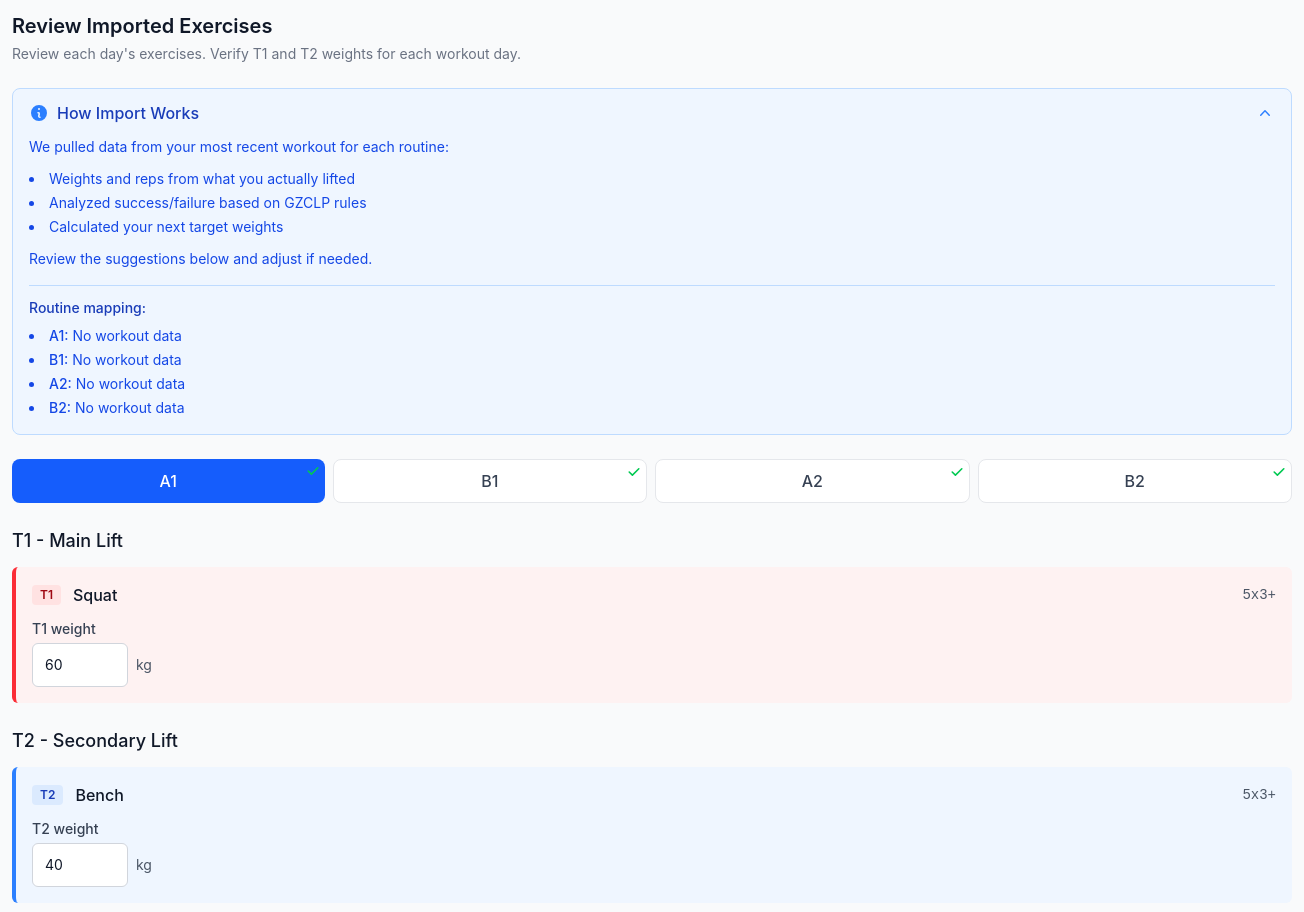
Scenario: ImportReviewStep › tabbed interface › tab navigation switches displayed day content
expect the text "Squat" is shown: met, box x1=73 y1=583 x2=117 y2=607
# Click B1 tab
Click the tab named "day b1".
click(490, 481)  # box x1=332 y1=459 x2=647 y2=503
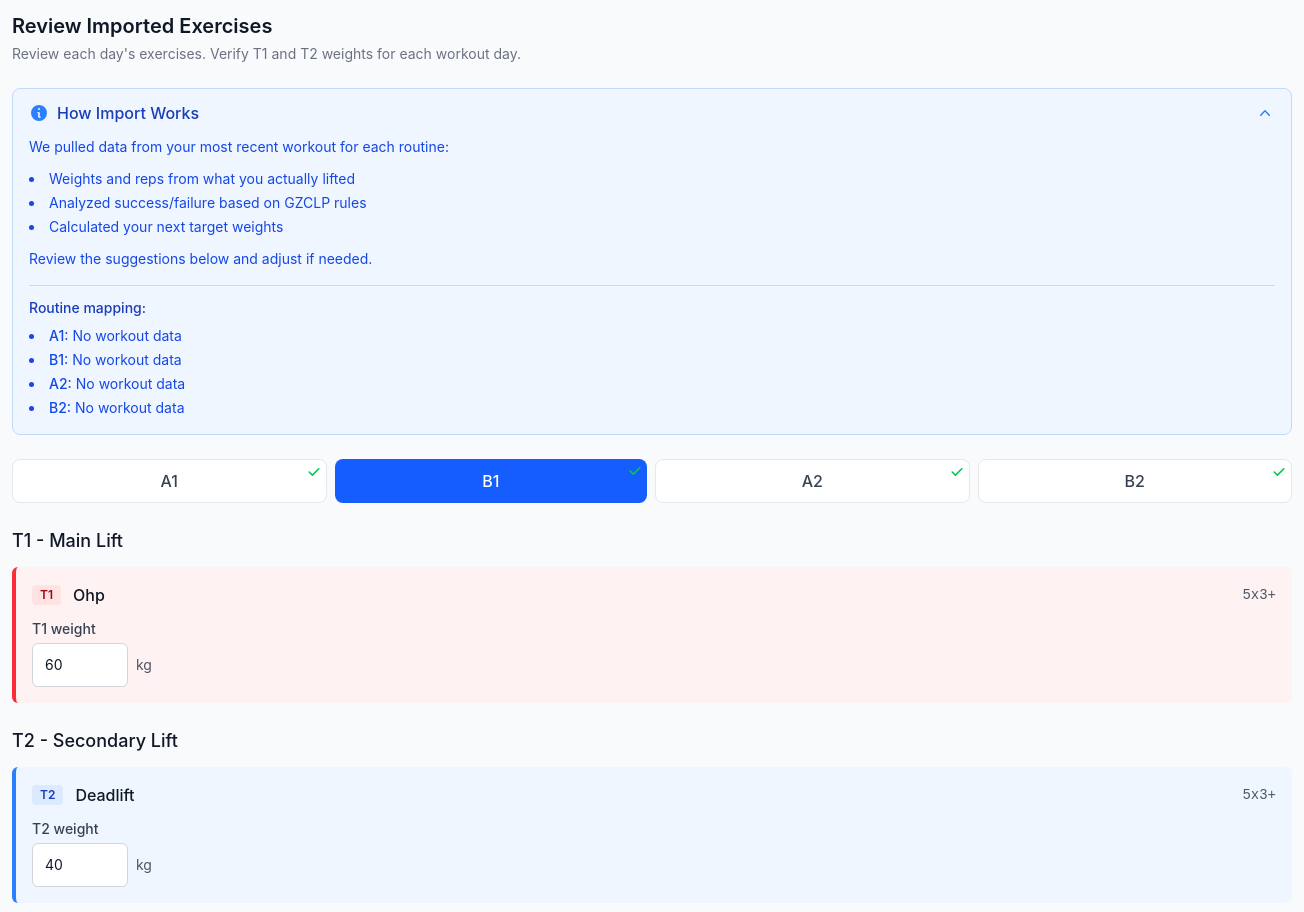
expect the text "Ohp" is shown: met, box x1=73 y1=583 x2=105 y2=607
expect the text "Deadlift" is shown: met, box x1=75 y1=783 x2=134 y2=807
expect the text "Squat" is gone: met
